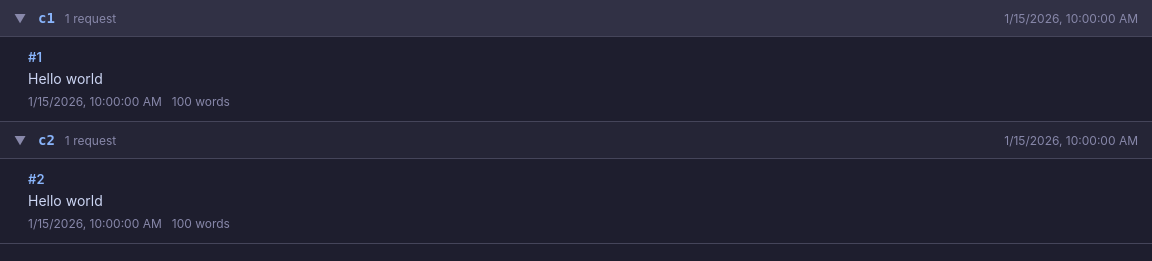
RequestList — collapse toggle › clicking the conv-label also toggles
This screenshot has width=1152, height=261.
Click the text with class "conv-label" showing "c1": (46, 18) [38,10,55,26]
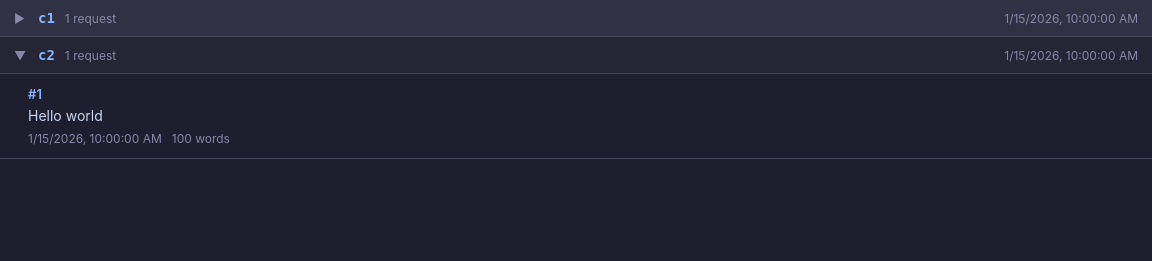
Check: the number of elements with class "request-item" is 1, box [0,74,1151,159]
